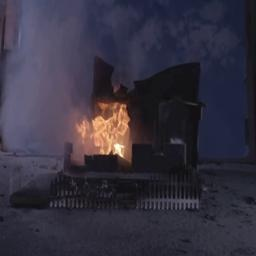fire: (72, 91, 132, 161)
